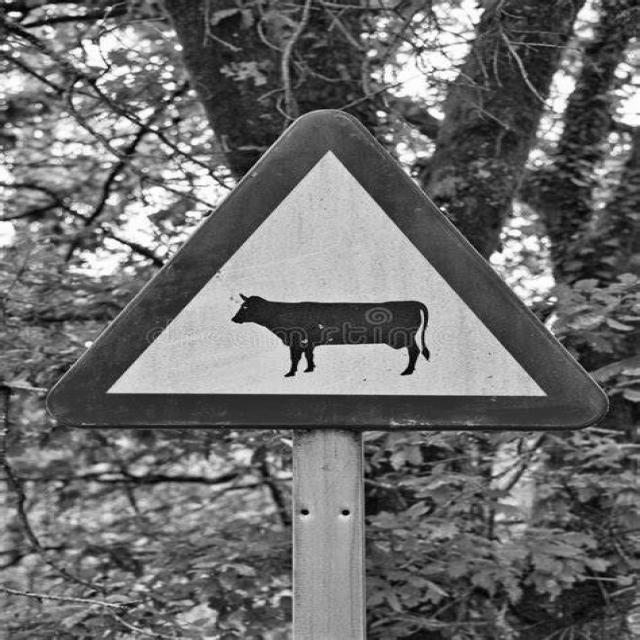cattle: (43, 112, 620, 517)
